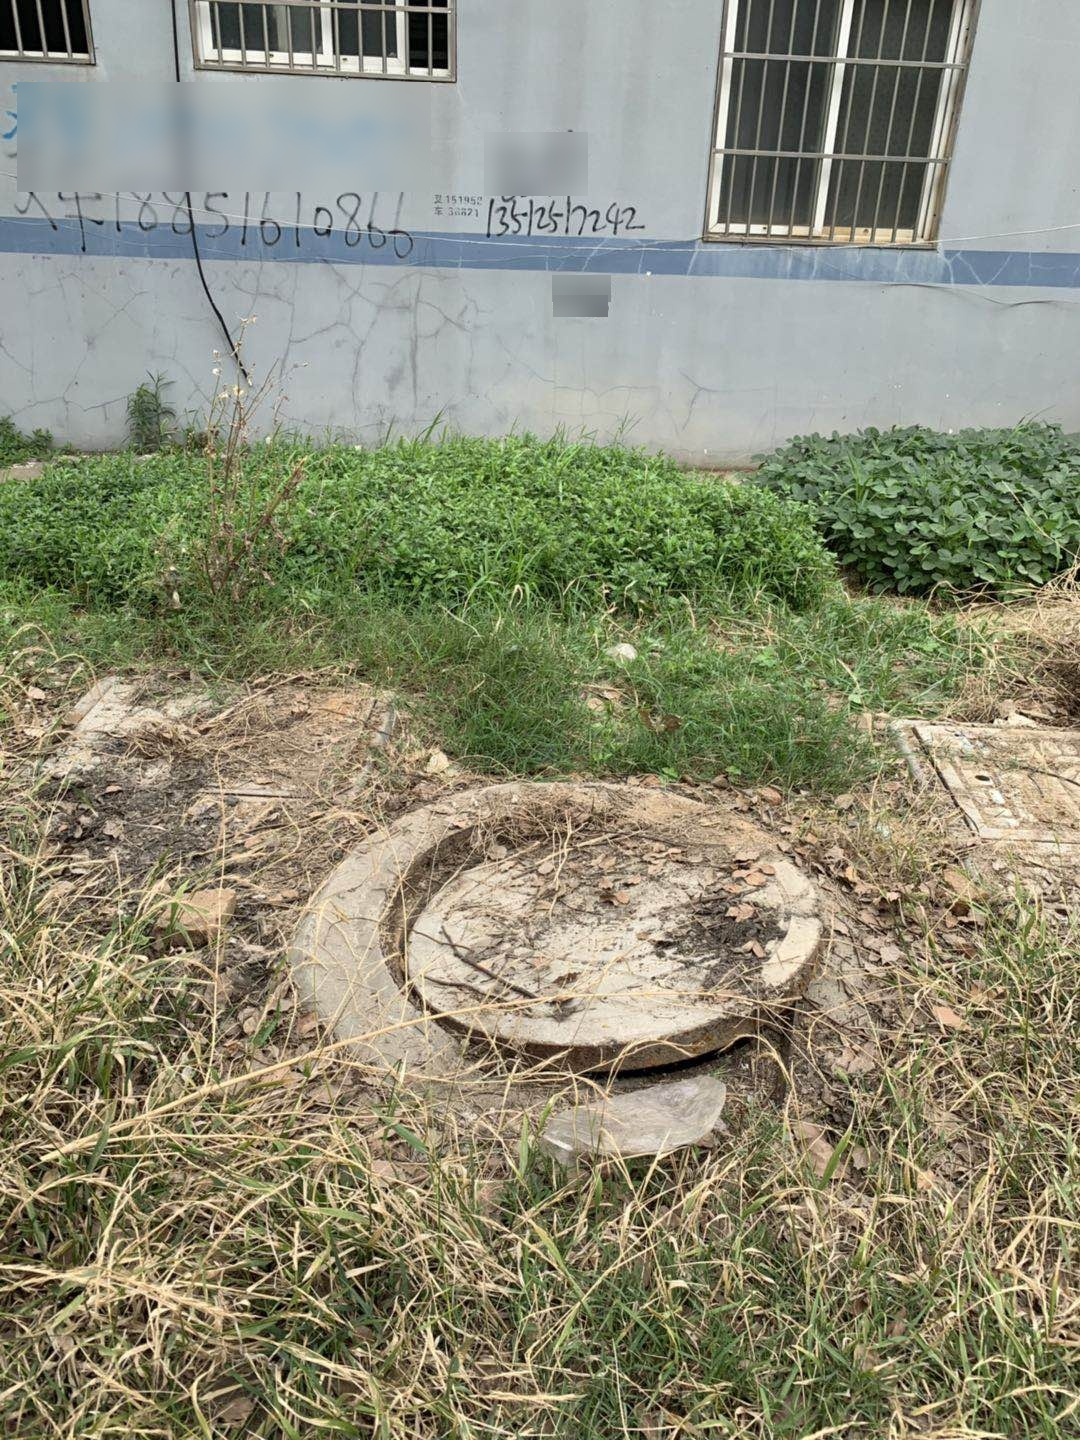uncovered: (381, 806, 825, 1069)
